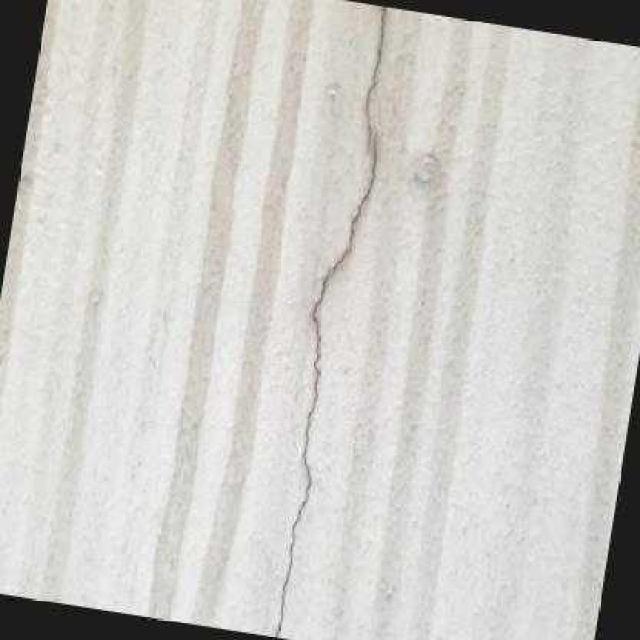D00: (273, 132, 377, 636), (362, 6, 387, 151)
